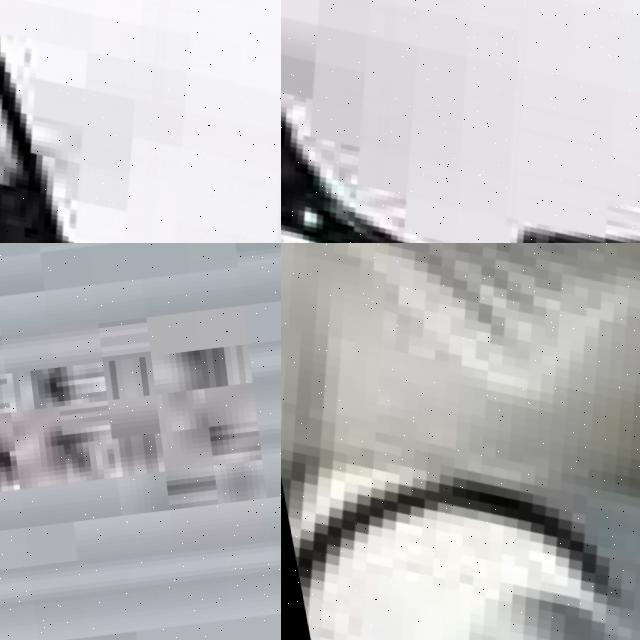0: (281, 0, 640, 243), (0, 0, 281, 243)
drone: (281, 243, 640, 640)
